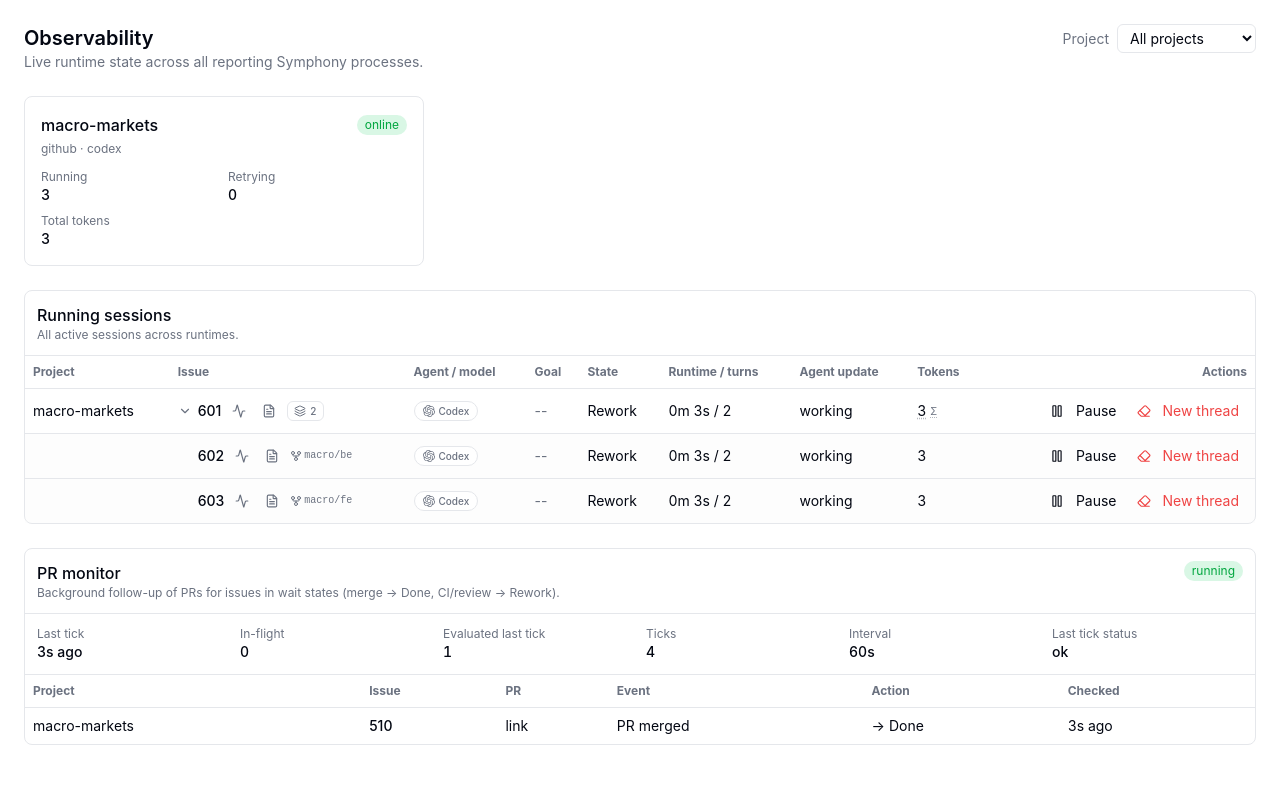
Scenario: ObservabilityPage › nests child runs under their coordinating parent
Expected: the text "601" is shown, [198,402,221,419]
Expected: the text "602" is shown, [198,447,224,464]
Click the button named "child runs" at [185, 411], box [178,404,192,418]
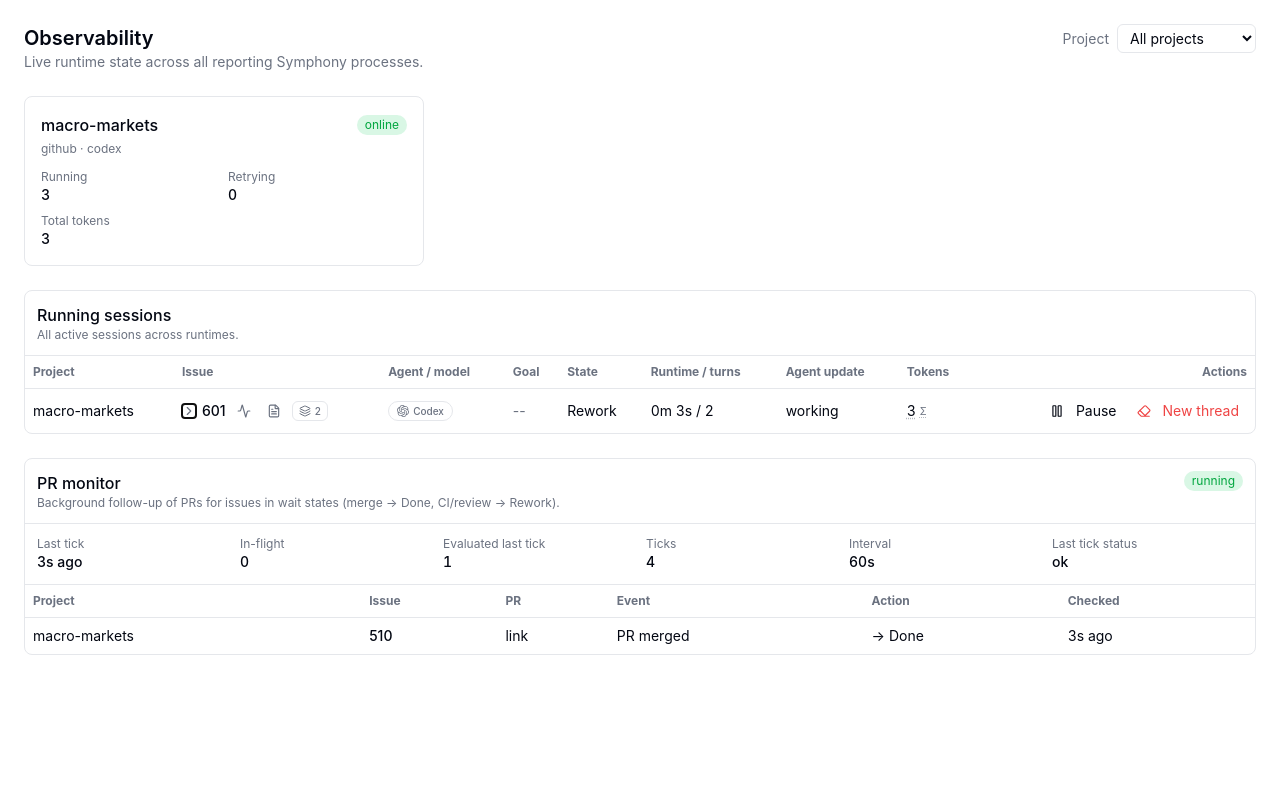
Expected: the text "601" is shown, [202,401,226,421]
Expected: the text "602" is gone
Expected: the text "603" is gone
